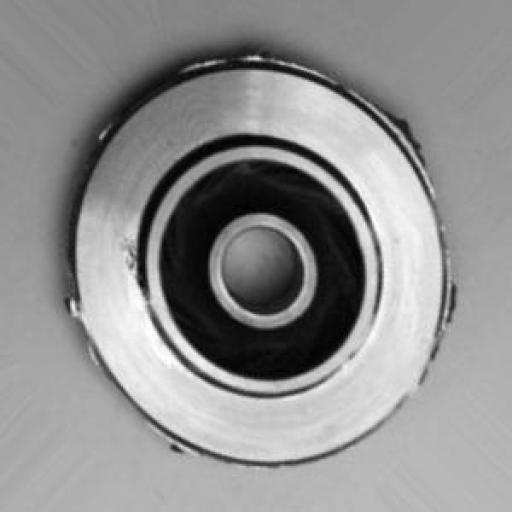defect: (35, 33, 475, 485)
